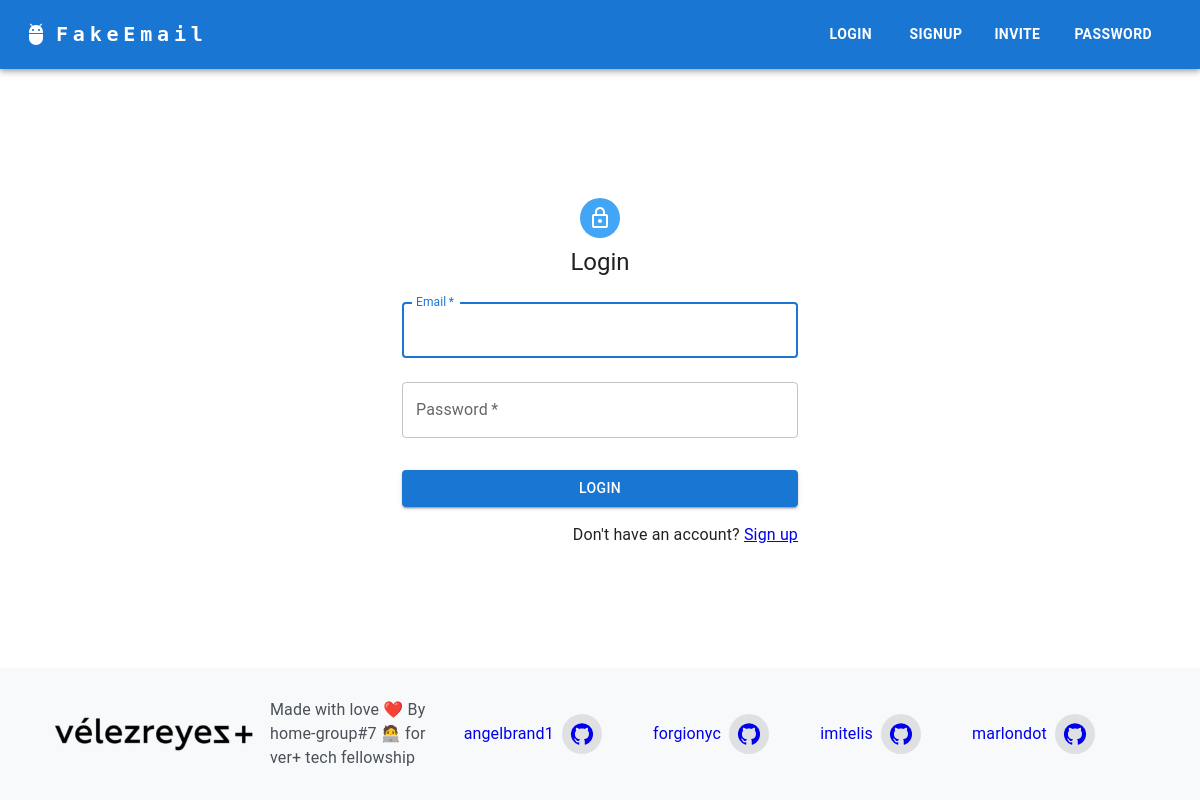
Scenario: Login tests › displays error messages for short email
Type "invalid" into the field named "email" at (600, 330), box top-left (402, 302), bottom-right (798, 358)
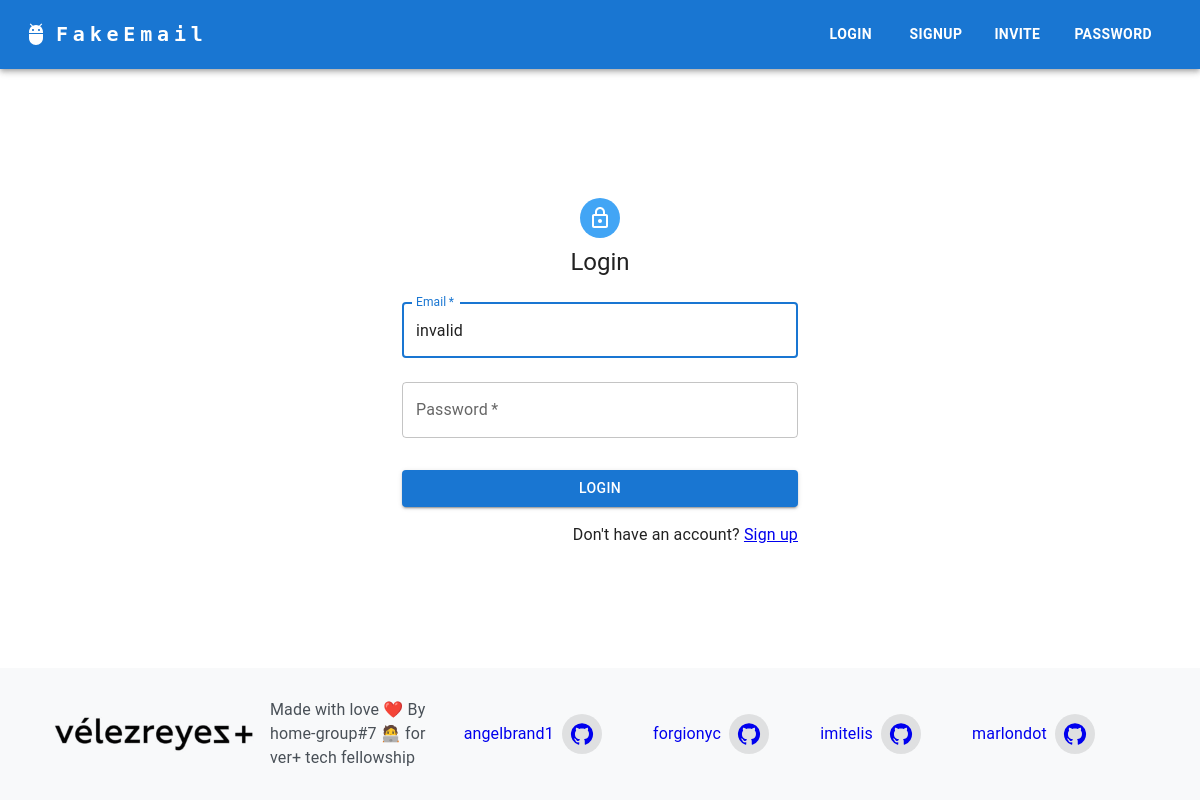
Type "validpassword" into the password field named "password" at (600, 410), box top-left (402, 382), bottom-right (798, 438)
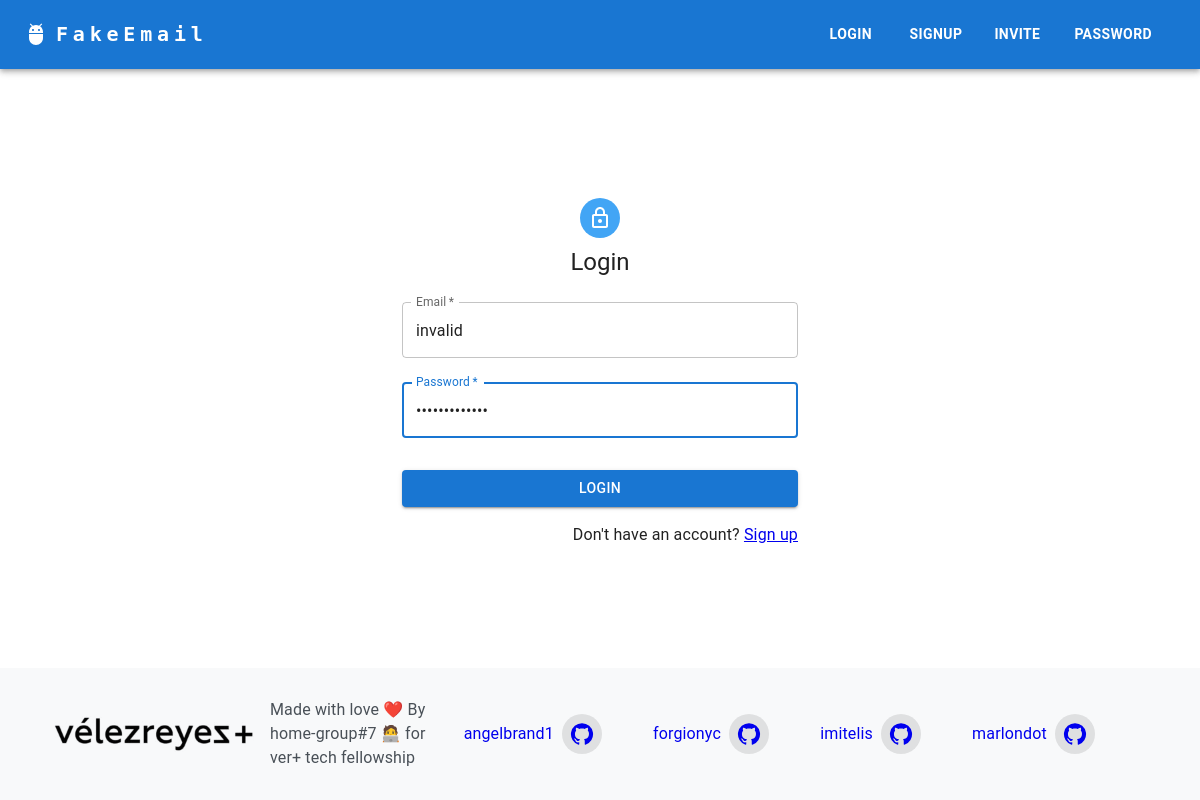
Click the button with id "loginButton" at (600, 489), box top-left (402, 470), bottom-right (798, 507)
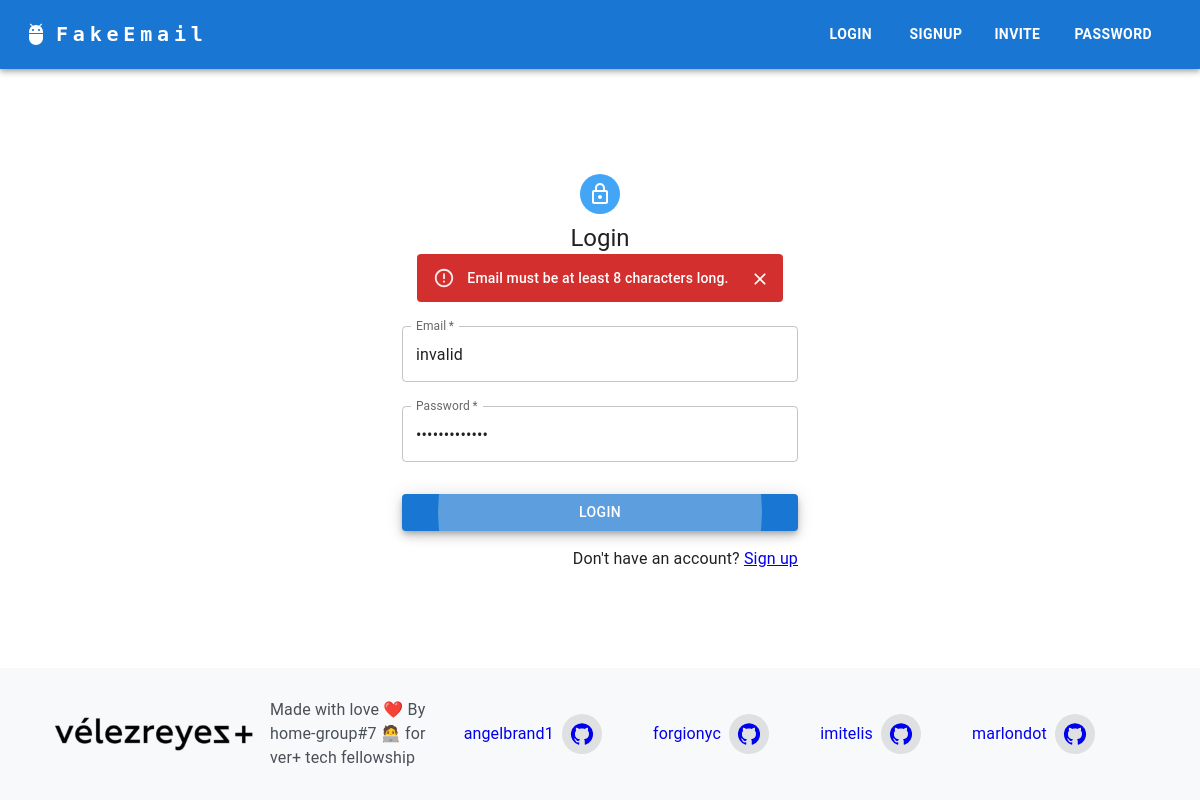
Check: the text "Email must be at least 8 characters long." is shown, box top-left (467, 270), bottom-right (729, 286)
